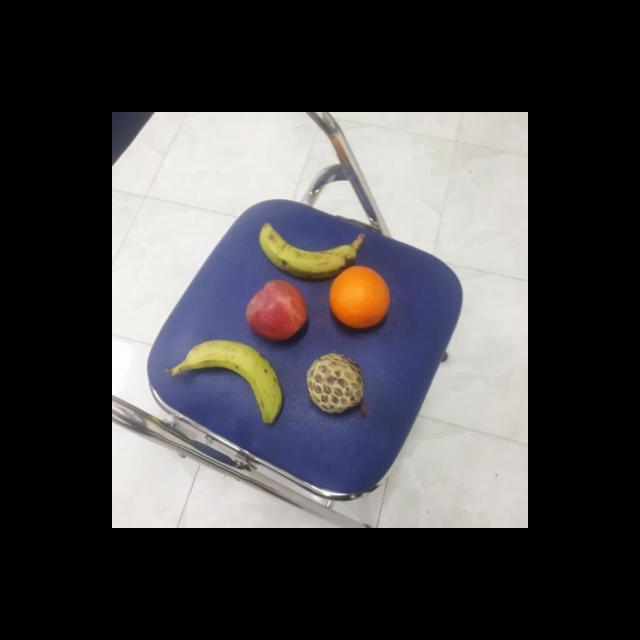Sakya fruit: (304, 352, 368, 418)
apple: (244, 278, 310, 339)
banana: (182, 337, 286, 427), (255, 220, 362, 284)
orange: (328, 264, 392, 330)
